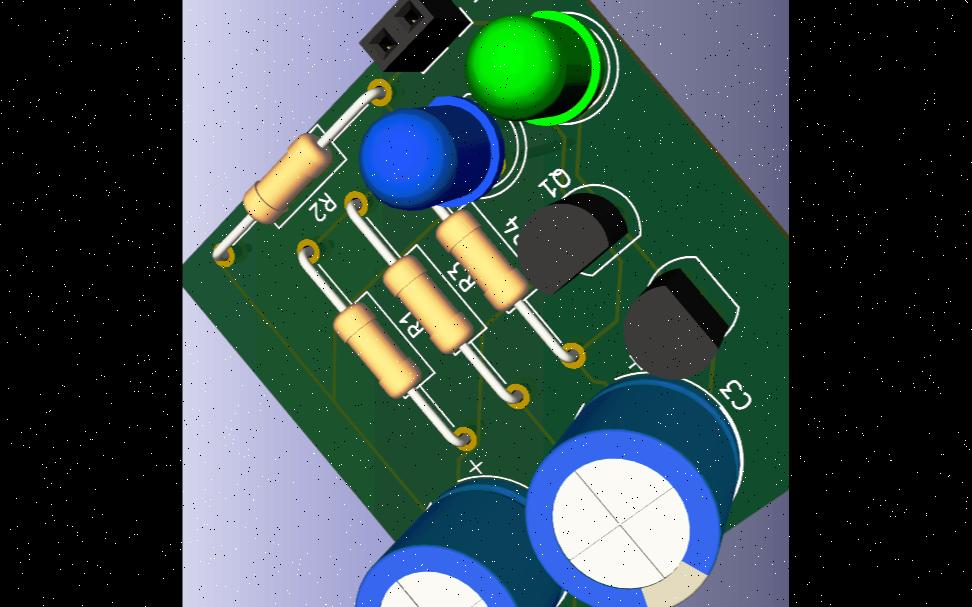blue_led: (358, 104, 502, 212)
capacitor: (525, 379, 743, 607), (353, 478, 567, 607)
green_led: (464, 12, 602, 124)
resistor: (382, 254, 475, 352), (244, 135, 333, 219), (462, 242, 530, 310), (304, 246, 354, 308), (453, 453, 529, 486), (434, 208, 483, 252), (332, 301, 380, 344), (410, 368, 434, 390)
transistor: (620, 266, 730, 380), (515, 193, 629, 296)
